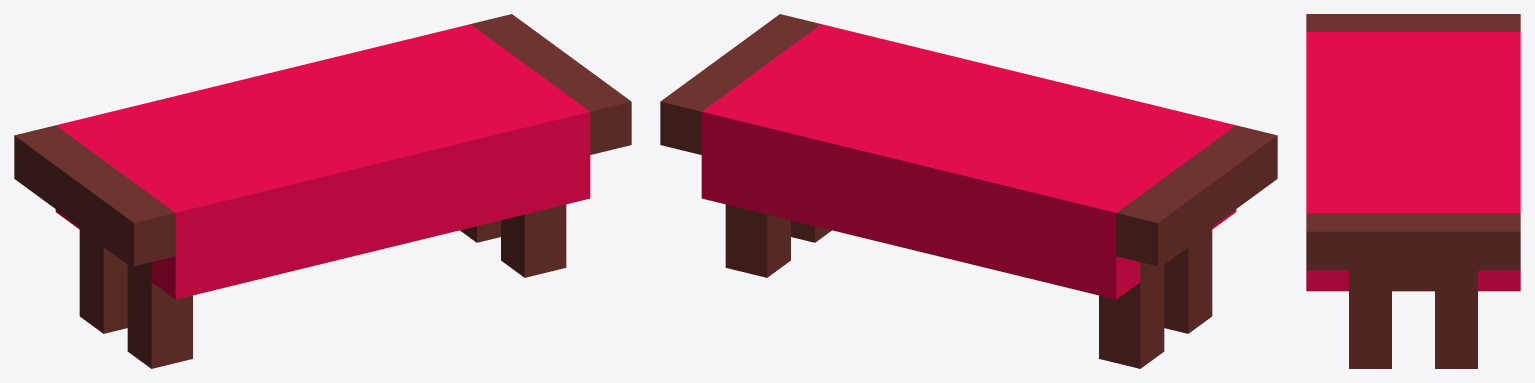
File: large_bench_b_red.obj
3 views of the same model, side by side, from view 1: azimuth 30°, elevation 25°; view 2: azimuth 150°, elevation 25°; view 3: azimuth 270°, elevation 25° (orthographic). The views are drawn at different scales.
Bounding box in the file's own units: 1.2 × 0.4 × 0.5.
Materials: 1 (1 with a texture image).
